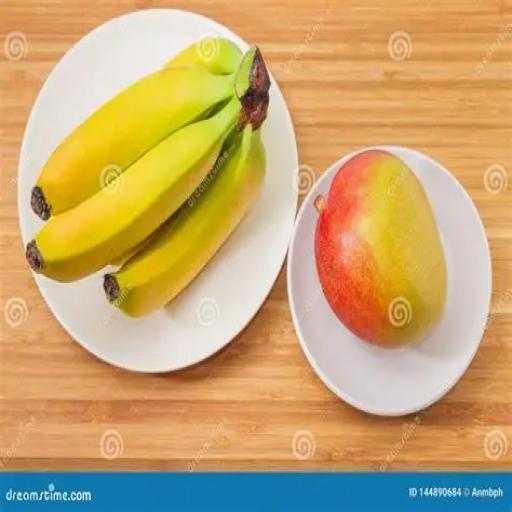banana: (26, 51, 270, 281), (104, 126, 265, 317), (32, 68, 233, 220)
mango: (317, 153, 448, 347)
